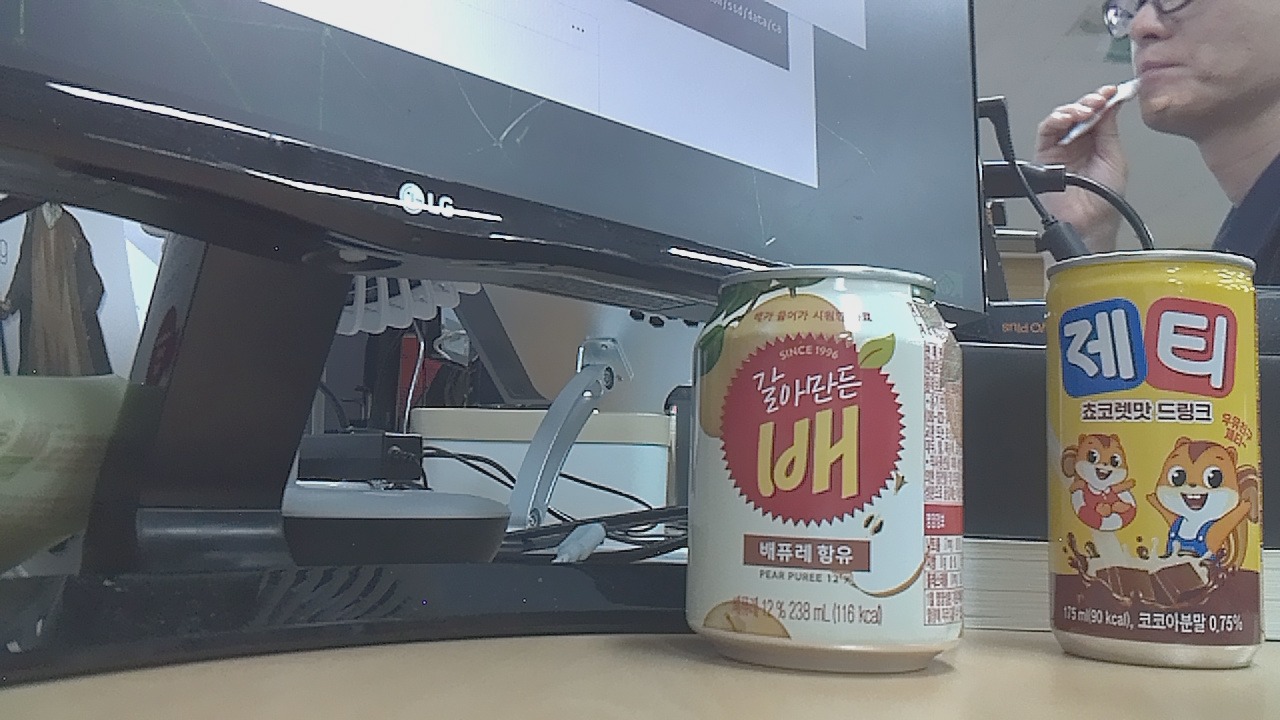IdH (pear juice): (689, 250, 977, 673)
jetty: (1037, 247, 1280, 684)
